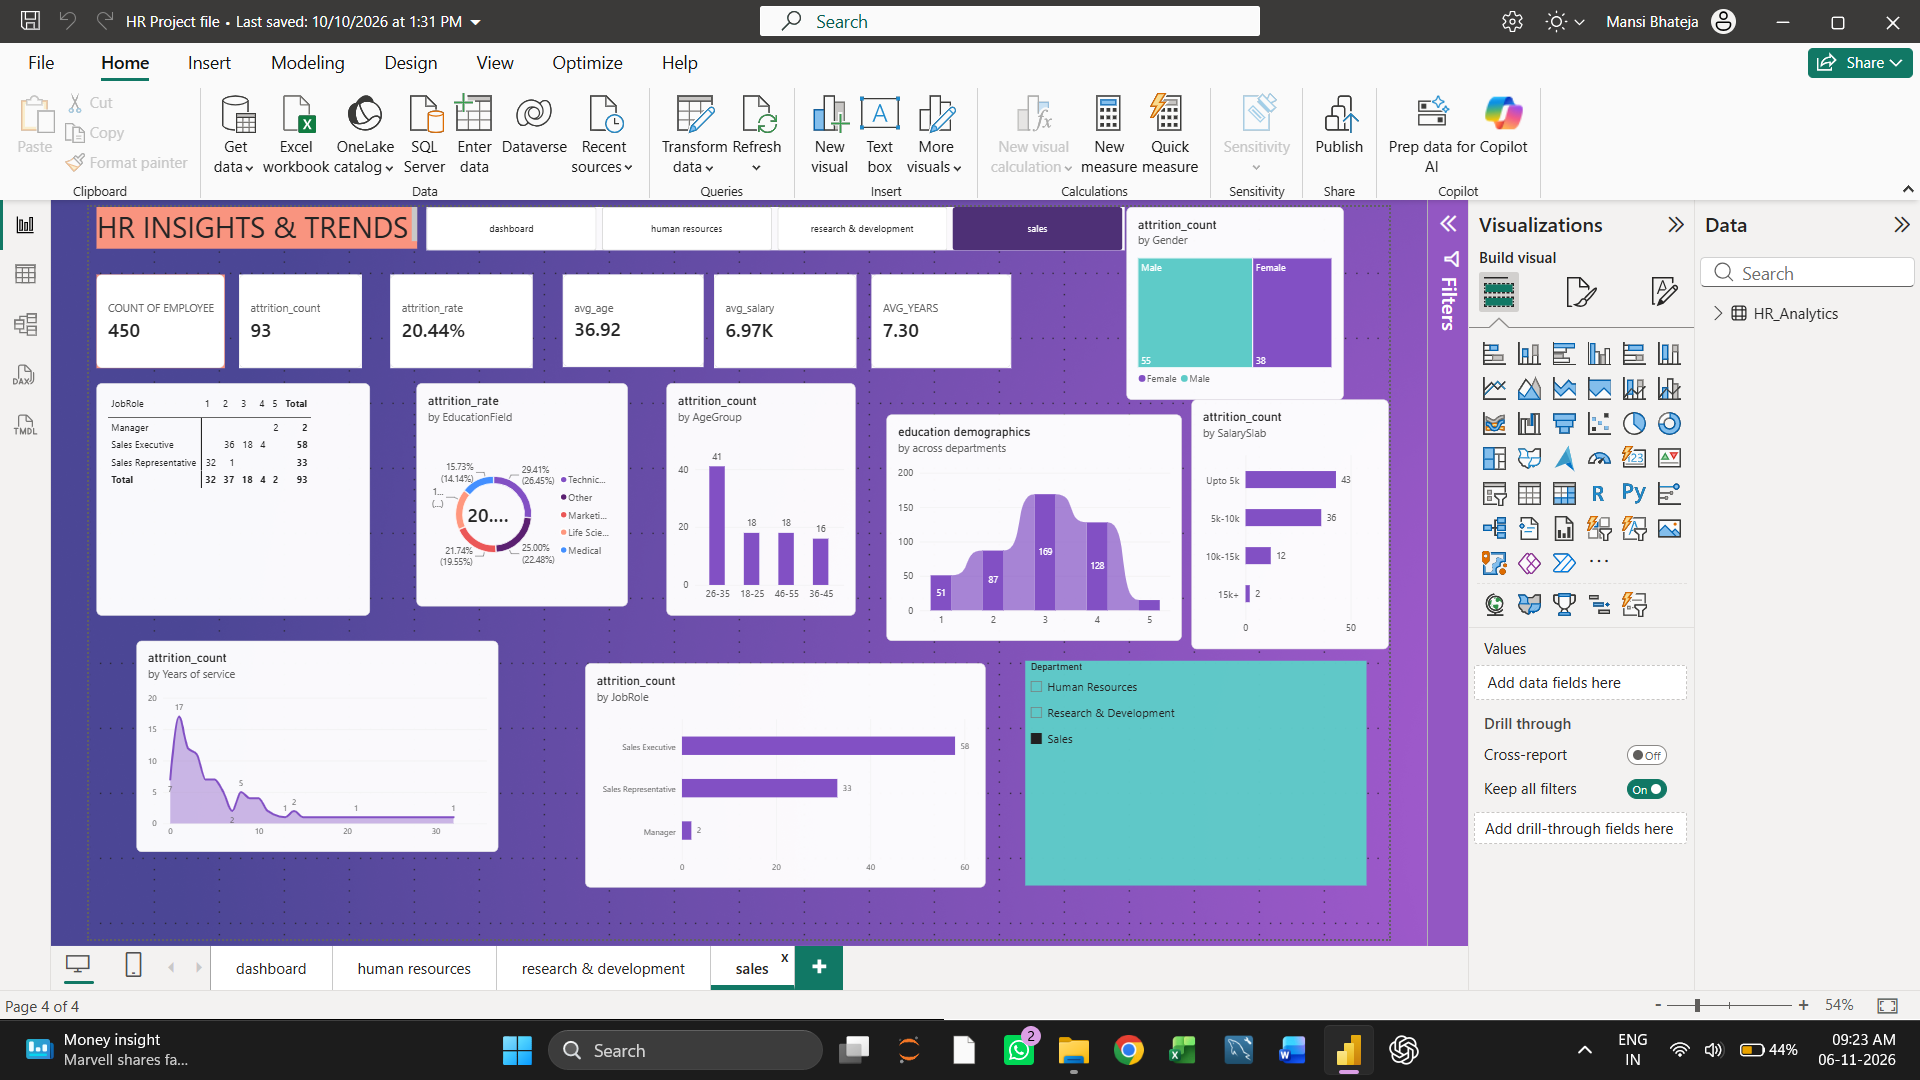

The page's visual inventory and layout, read from the dashboard file:
{"tool":"powerbi","page":{"name":"sales","canvas":[1920,1080],"ordinal":3},"visuals":[{"type":"pageNavigator","box":[498.5,0,1031.4,64.3],"z":0},{"type":"textbox","box":[10.2,0,473.5,61.2],"z":1},{"type":"treemap","fields":{"Details":["HR_Analytics.Gender"],"Values":["HR_Analytics.attrition_count"]},"box":[1532.3,0,320.7,284.5],"z":2},{"type":"cardVisual","fields":{"Data":["Sum(HR_Analytics.EmployeeCount)"]},"box":[10.2,100,189.8,138.8],"z":3},{"type":"cardVisual","fields":{"Data":["HR_Analytics.attrition_count"]},"box":[222.4,100,181.6,138.8],"z":4},{"type":"cardVisual","fields":{"Data":["HR_Analytics.attrition_rate"]},"box":[444.9,100,210.2,138.8],"z":5},{"type":"cardVisual","fields":{"Data":["Avg(HR_Analytics.avg_age)"]},"box":[700,100,208.2,136.7],"z":6},{"type":"cardVisual","fields":{"Data":["HR_Analytics.avg_salary"]},"box":[922.4,100,210.2,138.8],"z":7},{"type":"cardVisual","fields":{"Data":["HR_Analytics.AVG_YEARS"]},"box":[1155.1,100,206.1,138.8],"z":8},{"type":"pivotTable","fields":{"Columns":["HR_Analytics.JobLevel"],"Rows":["HR_Analytics.JobRole"],"Values":["HR_Analytics.attrition_count"]},"box":[10.3,260.3,404.1,342.9],"z":9},{"type":"donutChart","fields":{"Category":["HR_Analytics.EducationField"],"Y":["HR_Analytics.attrition_rate"]},"box":[484.5,260.3,312.1,329.3],"z":10},{"type":"columnChart","fields":{"Category":["HR_Analytics.AgeGroup"],"Y":["HR_Analytics.attrition_count"]},"box":[853.4,260.3,279.3,343.1],"z":11},{"type":"ribbonChart","fields":{"Category":["HR_Analytics.Education"],"Y":["CountNonNull(HR_Analytics.Department)"]},"box":[1177.6,306.9,436.2,334.5],"z":12},{"type":"barChart","fields":{"Category":["HR_Analytics.SalarySlab"],"Y":["HR_Analytics.attrition_count"]},"box":[1628.6,284.5,291.4,369],"z":13},{"type":"areaChart","fields":{"Category":["HR_Analytics.YearsAtCompany"],"Y":["HR_Analytics.attrition_count"]},"box":[70.7,641.4,534.5,312.1],"z":14},{"type":"barChart","fields":{"Category":["HR_Analytics.JobRole"],"Y":["HR_Analytics.attrition_count"]},"box":[732,674,591.4,331],"z":15},{"type":"slicer","fields":{"Values":["HR_Analytics.Department"]},"box":[1382,670,504,332],"z":16}]}

Visuals, with their boxes on the page's 1920x1080 design canvas (x1, y1, x2, y2). These are canvas units, not pixel positions in the 1920x1080 screenshot, which may show the page scaled, cropped or inside an application window:
pageNavigator: [498,0,1530,64]
textbox: [10,0,484,61]
treemap - HR_Analytics.Gender x HR_Analytics.attrition_count: [1532,0,1853,284]
cardVisual - Sum(HR_Analytics.EmployeeCount): [10,100,200,239]
cardVisual - HR_Analytics.attrition_count: [222,100,404,239]
cardVisual - HR_Analytics.attrition_rate: [445,100,655,239]
cardVisual - Avg(HR_Analytics.avg_age): [700,100,908,237]
cardVisual - HR_Analytics.avg_salary: [922,100,1133,239]
cardVisual - HR_Analytics.AVG_YEARS: [1155,100,1361,239]
pivotTable - HR_Analytics.JobLevel x HR_Analytics.JobRole: [10,260,414,603]
donutChart - HR_Analytics.EducationField x HR_Analytics.attrition_rate: [484,260,797,590]
columnChart - HR_Analytics.AgeGroup x HR_Analytics.attrition_count: [853,260,1133,603]
ribbonChart - HR_Analytics.Education x CountNonNull(HR_Analytics.Department): [1178,307,1614,641]
barChart - HR_Analytics.SalarySlab x HR_Analytics.attrition_count: [1629,284,1920,654]
areaChart - HR_Analytics.YearsAtCompany x HR_Analytics.attrition_count: [71,641,605,954]
barChart - HR_Analytics.JobRole x HR_Analytics.attrition_count: [732,674,1323,1005]
slicer - HR_Analytics.Department: [1382,670,1886,1002]
